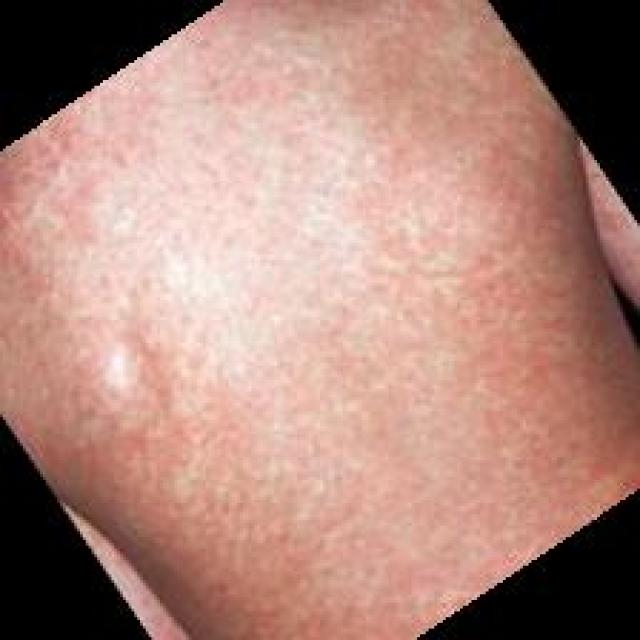others: (0, 0, 632, 600)
